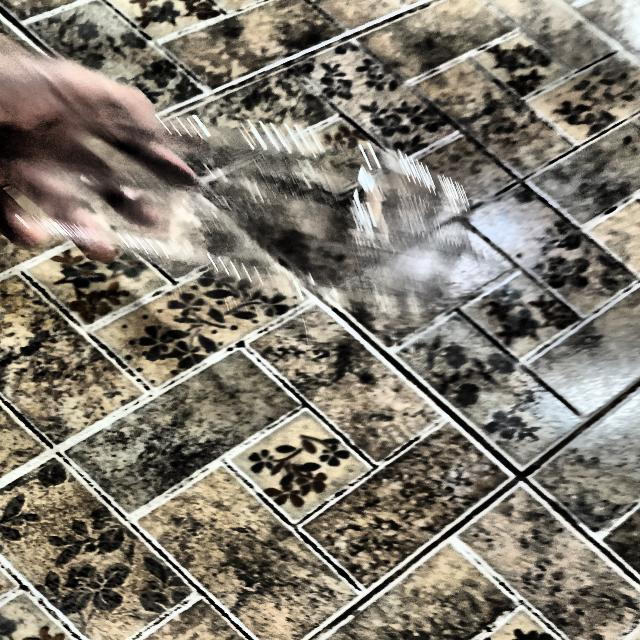plastic container: (16, 88, 494, 335)
